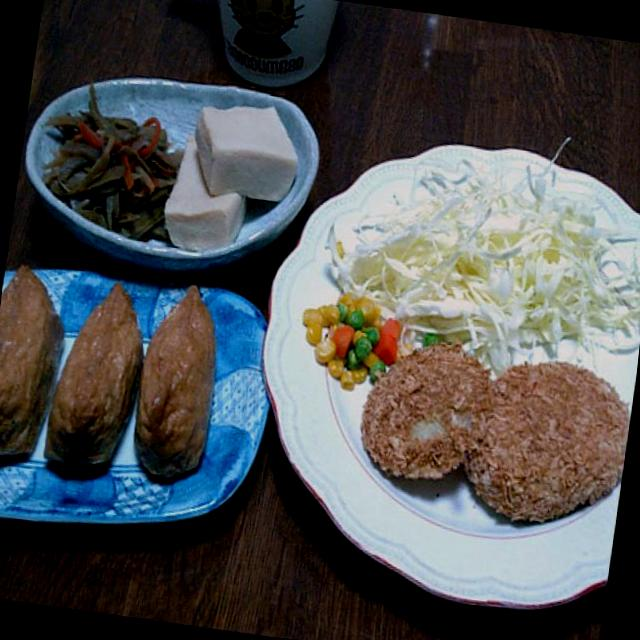Green Salad: (327, 129, 640, 367)
